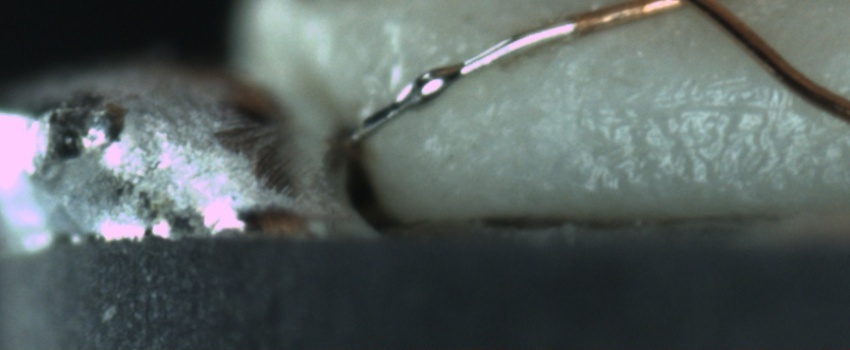CL: (640, 0, 723, 16)
DL: (637, 74, 800, 137)
TB: (394, 59, 462, 113)
TS: (346, 16, 577, 144)
TTCW: (346, 6, 617, 145)
